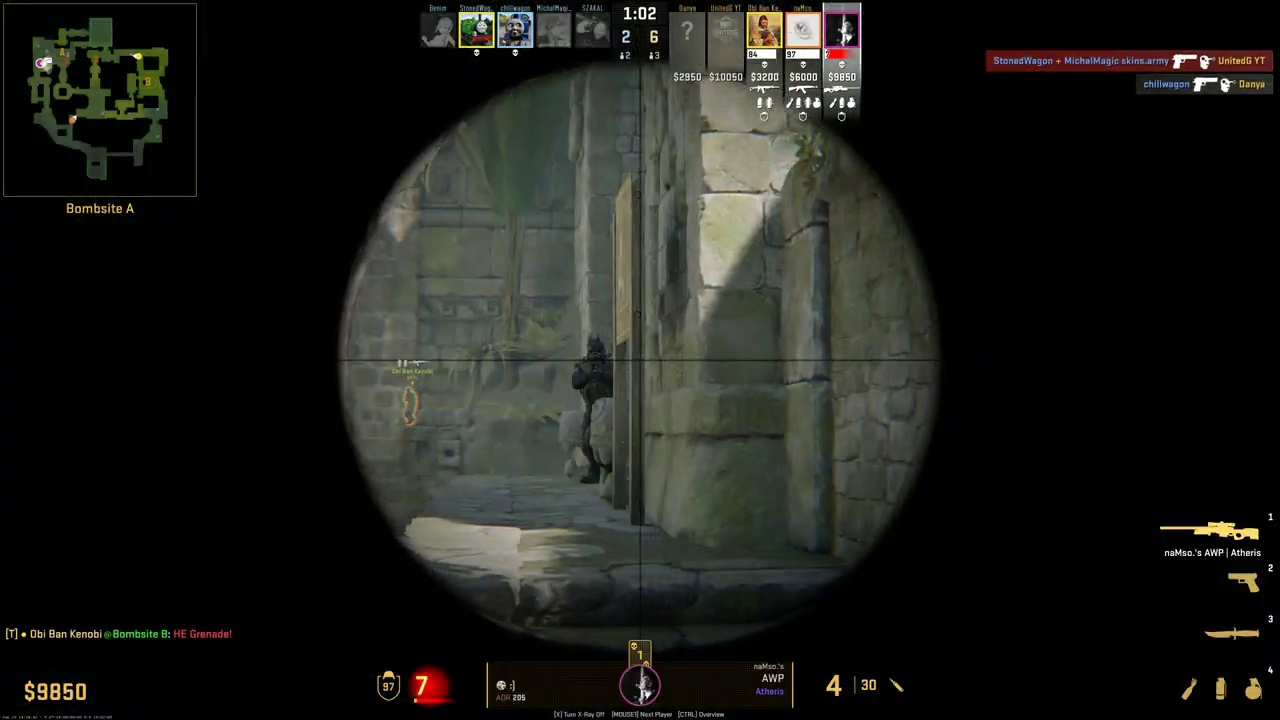CT: (574, 334, 611, 482)
